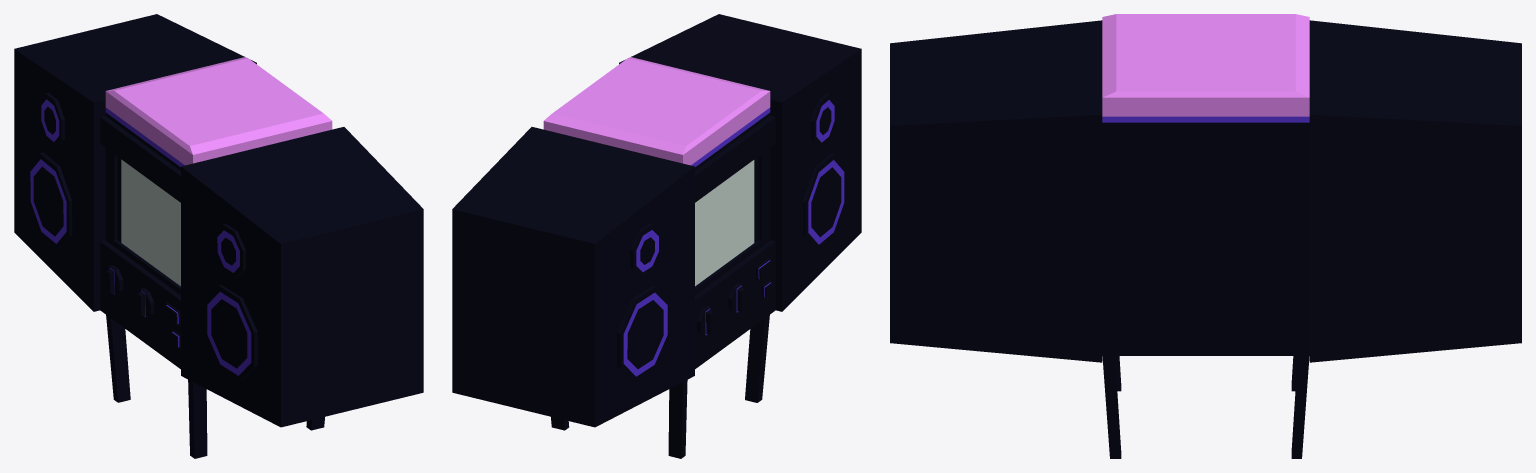
The model's file is Interior_Stereo_Purple.fbx.
3 renders of one model, left to right at view 1: azimuth 30°, elevation 25°; view 2: azimuth 150°, elevation 25°; view 3: azimuth 270°, elevation 25°, orthographic. The views are drawn at different scales.
Parts seen in each view (by area): view 1: Cube.310; view 2: Cube.310; view 3: Cube.310.
Boxes of the visible parts, left/top/right/bottom form: Cube.310: left=14, top=14, right=423, bottom=458; Cube.310: left=452, top=14, right=861, bottom=458; Cube.310: left=890, top=14, right=1521, bottom=458.
Size of the model in its own units: 40.75 by 73.71 by 114.
